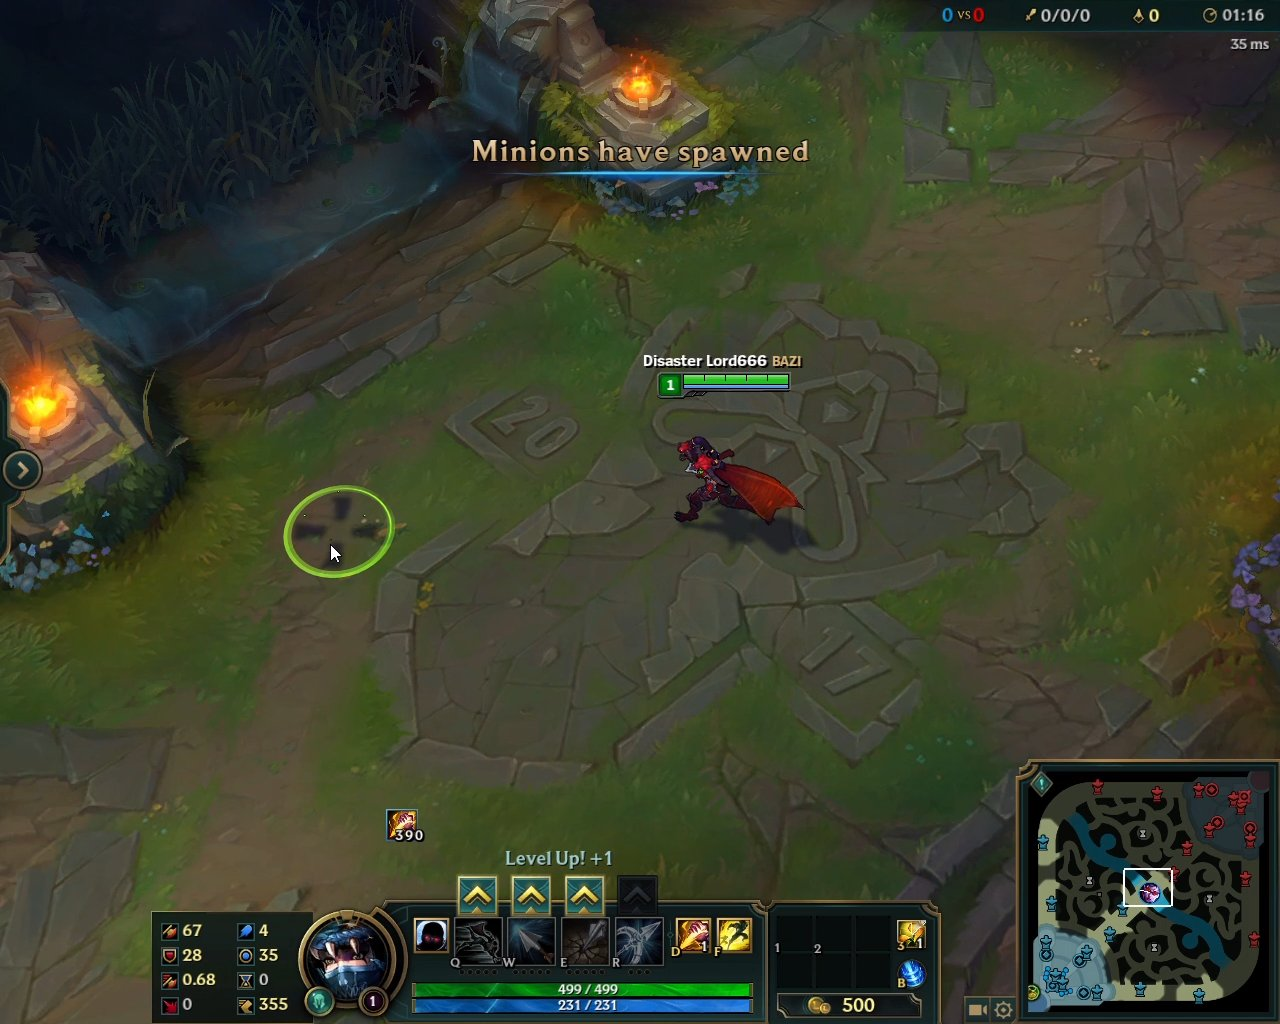Vayne: (664, 432, 806, 533)
